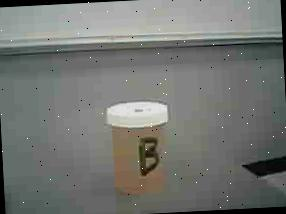Bottle B: (100, 96, 180, 199)
